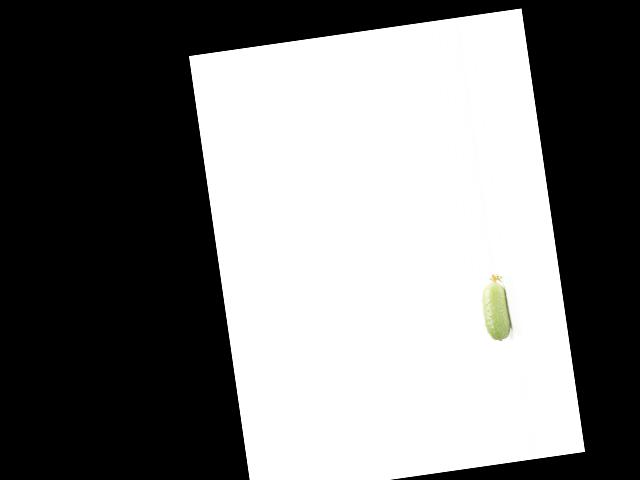cucumber: (478, 273, 513, 343)
